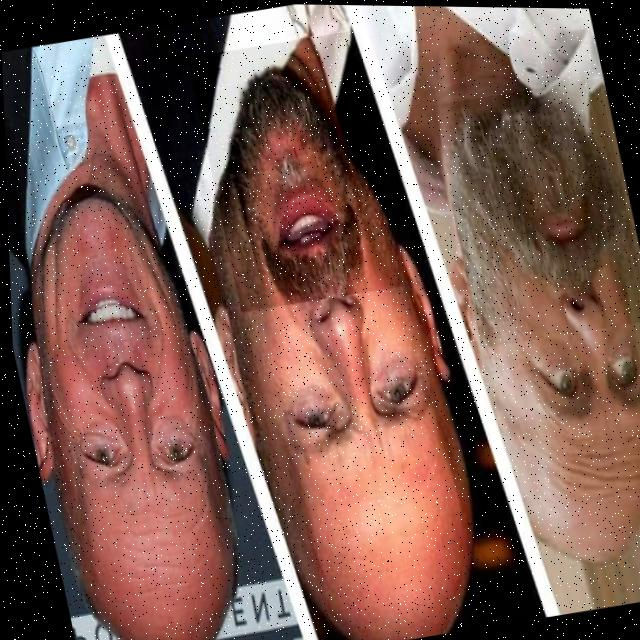beard: (216, 36, 392, 301), (449, 88, 629, 344)
